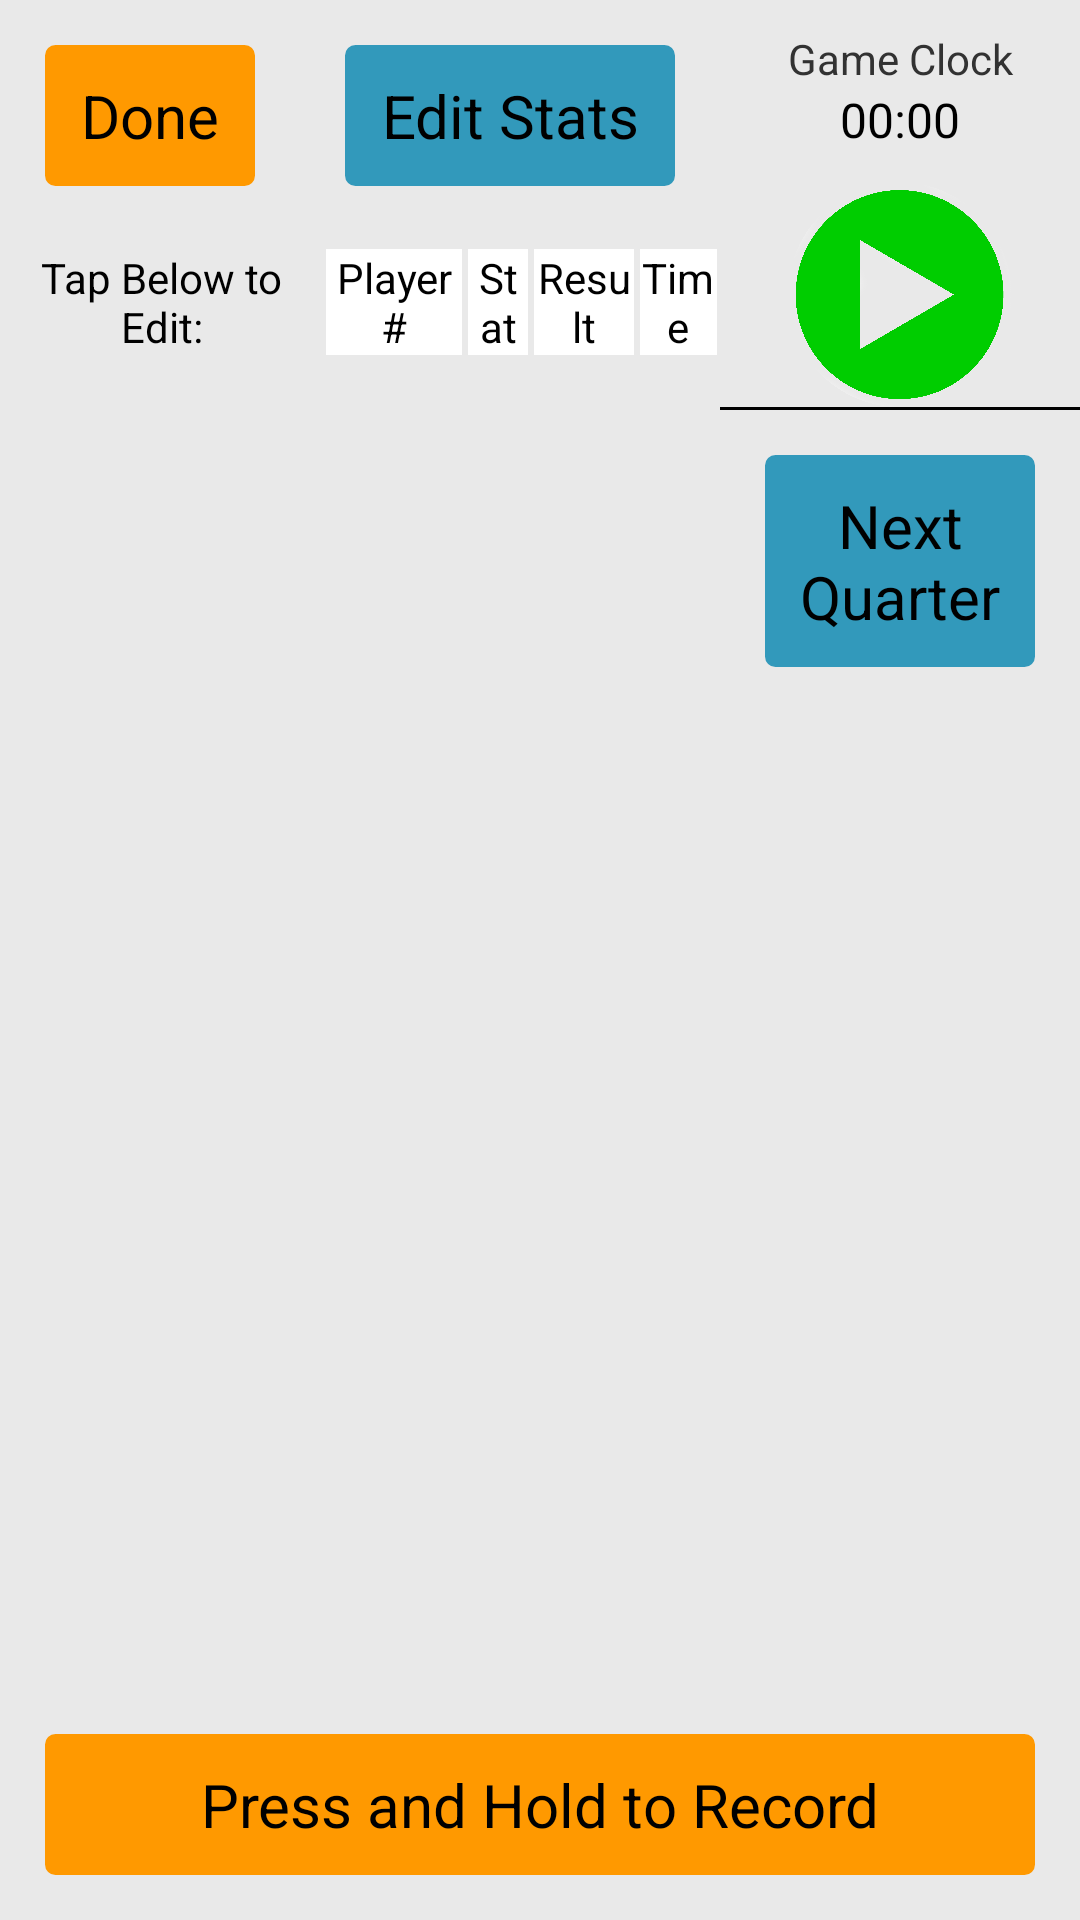

Screen size 1080×1920. Icon name, then its box in pixels as (x1, y1, x2, y2):
play: (796, 190, 1004, 399)
